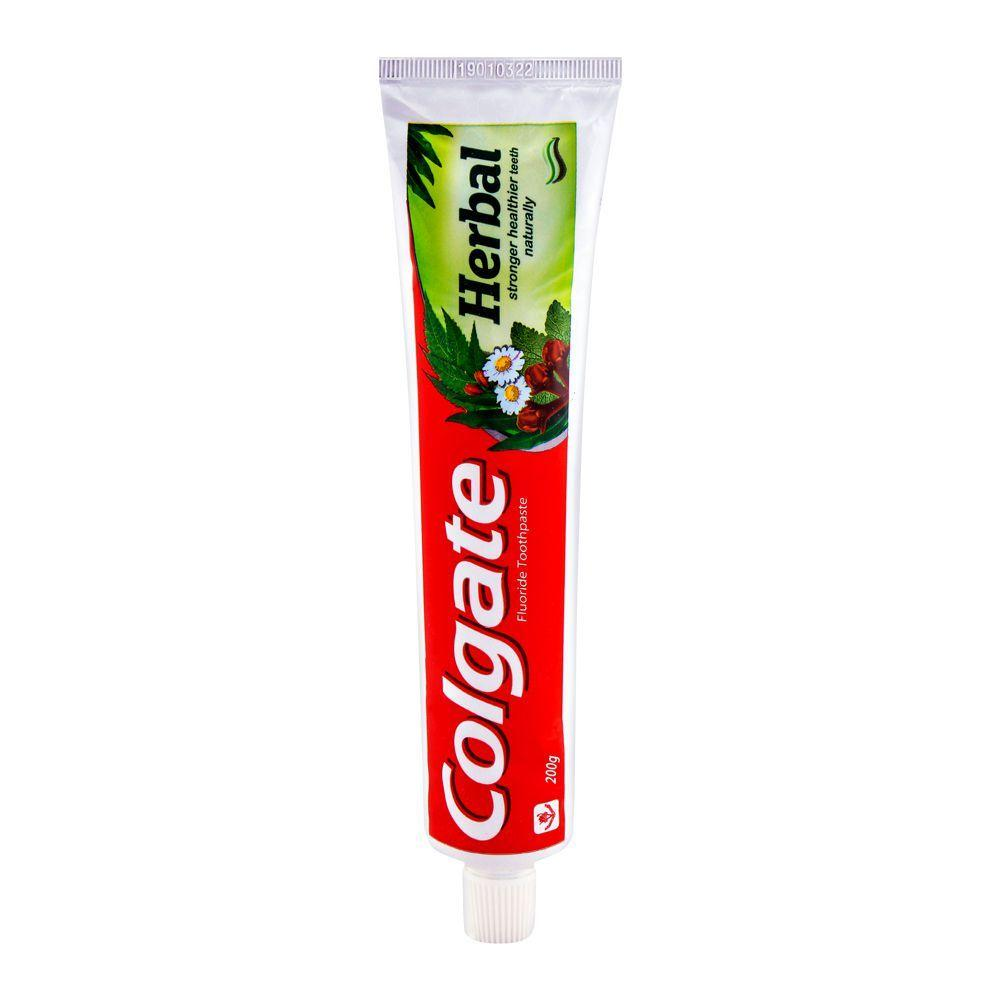toothpaste: (351, 35, 660, 960)
